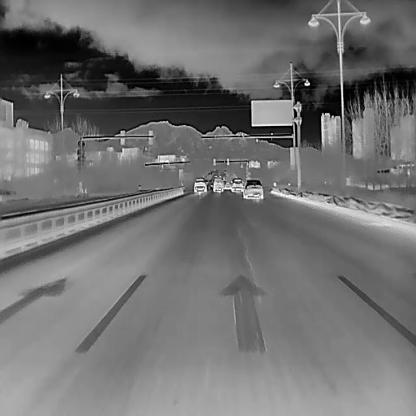car: (242, 179, 263, 199), (192, 176, 208, 192), (210, 177, 224, 192), (230, 176, 243, 192), (223, 180, 230, 188)
